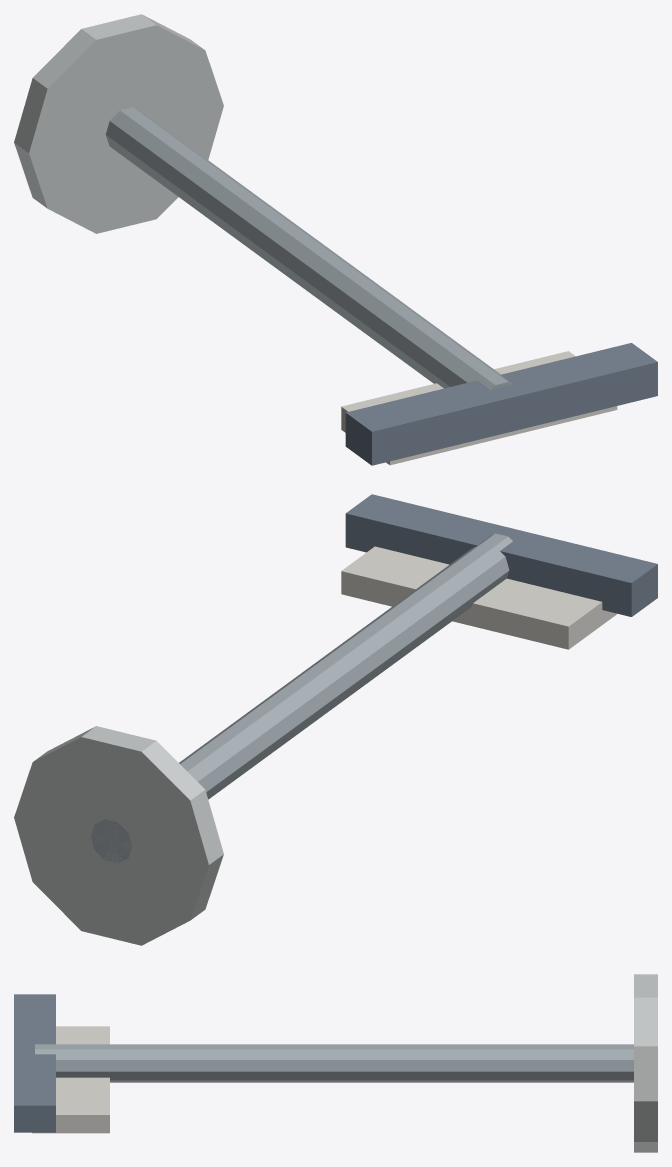
Rendered from billboard_blank.glb.
The picture shows the model from 3 angles, top to bottom: view 1: azimuth 30°, elevation 25°; view 2: azimuth 150°, elevation 25°; view 3: azimuth 270°, elevation 25°; orthographic projection. The views are drawn at different scales.
Parts seen in each view (by area): view 1: concrete, metal2, metal, white; view 2: concrete, metal2, metal, white; view 3: metal2, metal, concrete, white.
Boxes of the visible parts, <box> form: concrete: <box>14,14,223,233</box>; metal2: <box>105,107,512,389</box>; metal: <box>345,343,657,465</box>; white: <box>341,351,617,465</box>; concrete: <box>14,726,223,945</box>; metal2: <box>91,533,512,863</box>; metal: <box>345,494,657,616</box>; white: <box>341,546,616,649</box>; metal2: <box>35,1044,633,1082</box>; metal: <box>14,994,55,1132</box>; concrete: <box>634,974,657,1152</box>; white: <box>32,1026,109,1133</box>.
Size of the model in its own units: 2.2 by 1.43 by 5.38.
